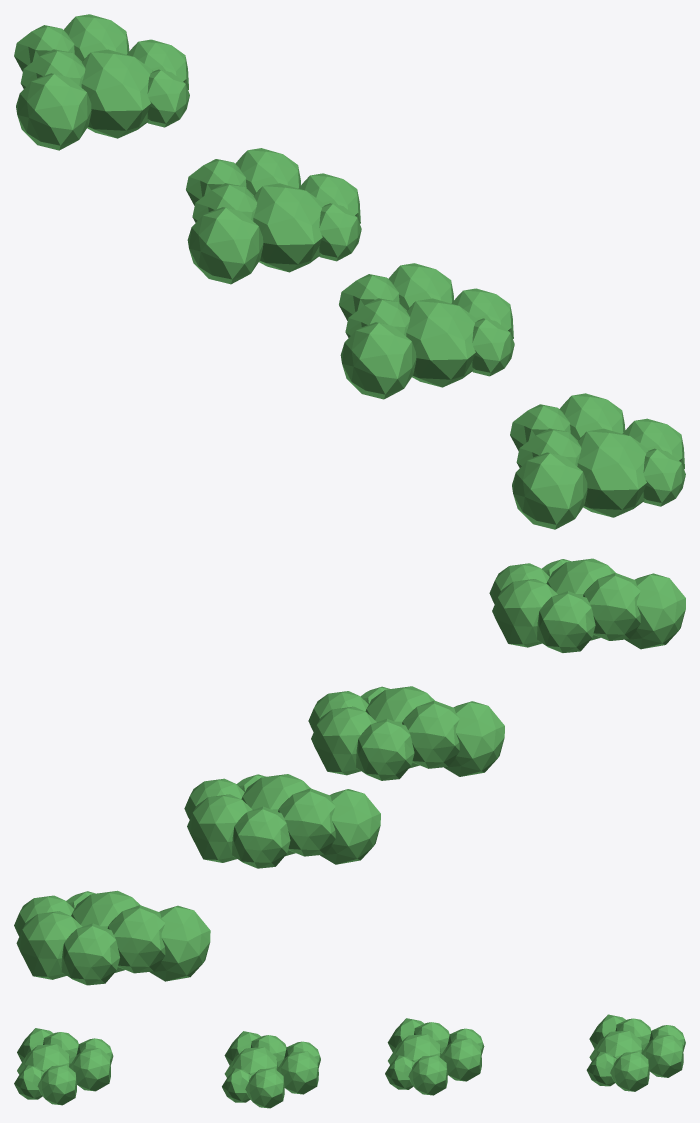
3 views of the same model, one above another, from view 1: azimuth 30°, elevation 25°; view 2: azimuth 150°, elevation 25°; view 3: azimuth 270°, elevation 25° (orthographic). The views are drawn at different scales.
Visible parts, largest first — view 1: Icosphere.002, Icosphere.001, Icosphere.003, Icosphere.009; view 2: Icosphere.002, Icosphere.001, Icosphere.009, Icosphere.003; view 3: Icosphere.002, Icosphere.009, Icosphere.001, Icosphere.003.
Boxes of the visible parts, <box> form: Icosphere.002: <box>14,14,189,150</box>; Icosphere.001: <box>339,263,514,399</box>; Icosphere.003: <box>510,393,685,529</box>; Icosphere.009: <box>186,148,361,284</box>; Icosphere.002: <box>14,890,210,985</box>; Icosphere.001: <box>308,686,504,780</box>; Icosphere.009: <box>184,774,380,868</box>; Icosphere.003: <box>489,558,685,652</box>; Icosphere.002: <box>586,1014,685,1091</box>; Icosphere.009: <box>385,1018,484,1095</box>; Icosphere.001: <box>222,1031,320,1108</box>; Icosphere.003: <box>14,1028,113,1105</box>.
Size of the model in its own units: 11.5 by 6.25 by 60.76.
